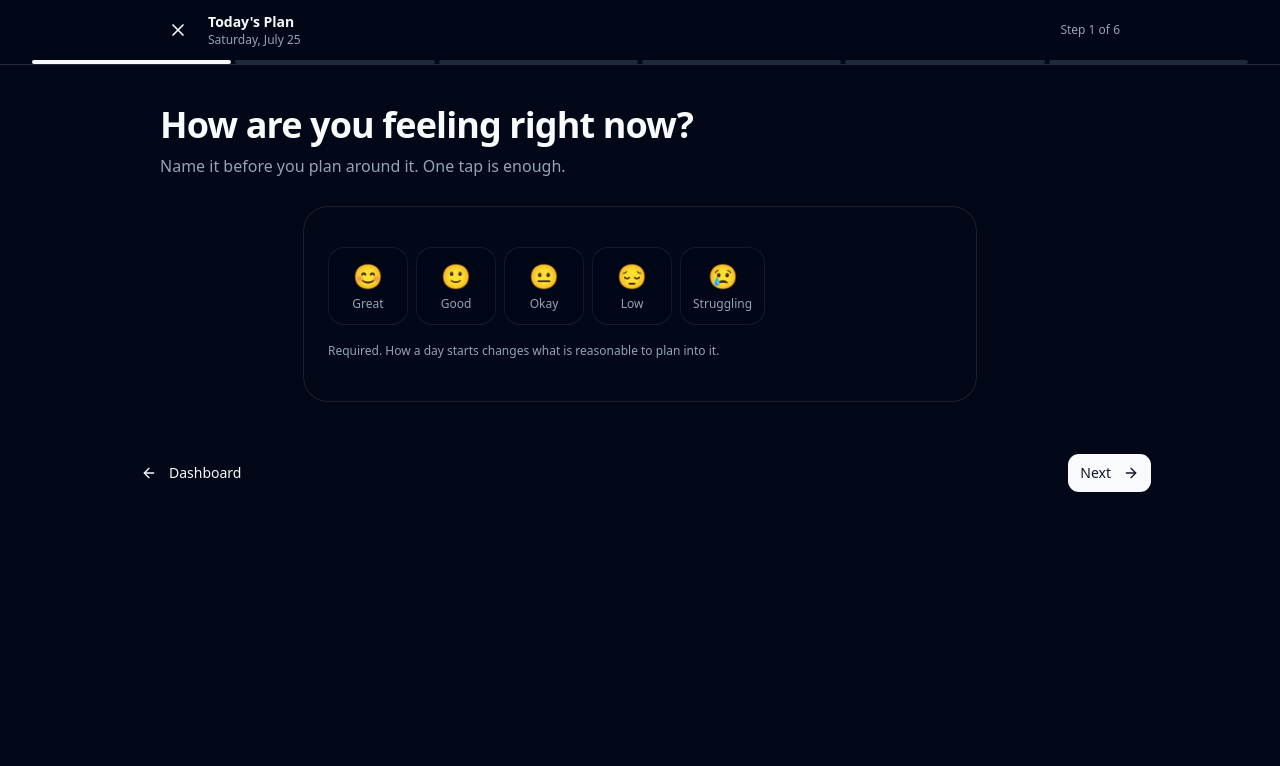
TodayPlanner › blocks progress until a Must Win is selected
The width and height of the screenshot is (1280, 766).
Click the button "🙂 good". click: (456, 286)
box: [416,247,496,325]
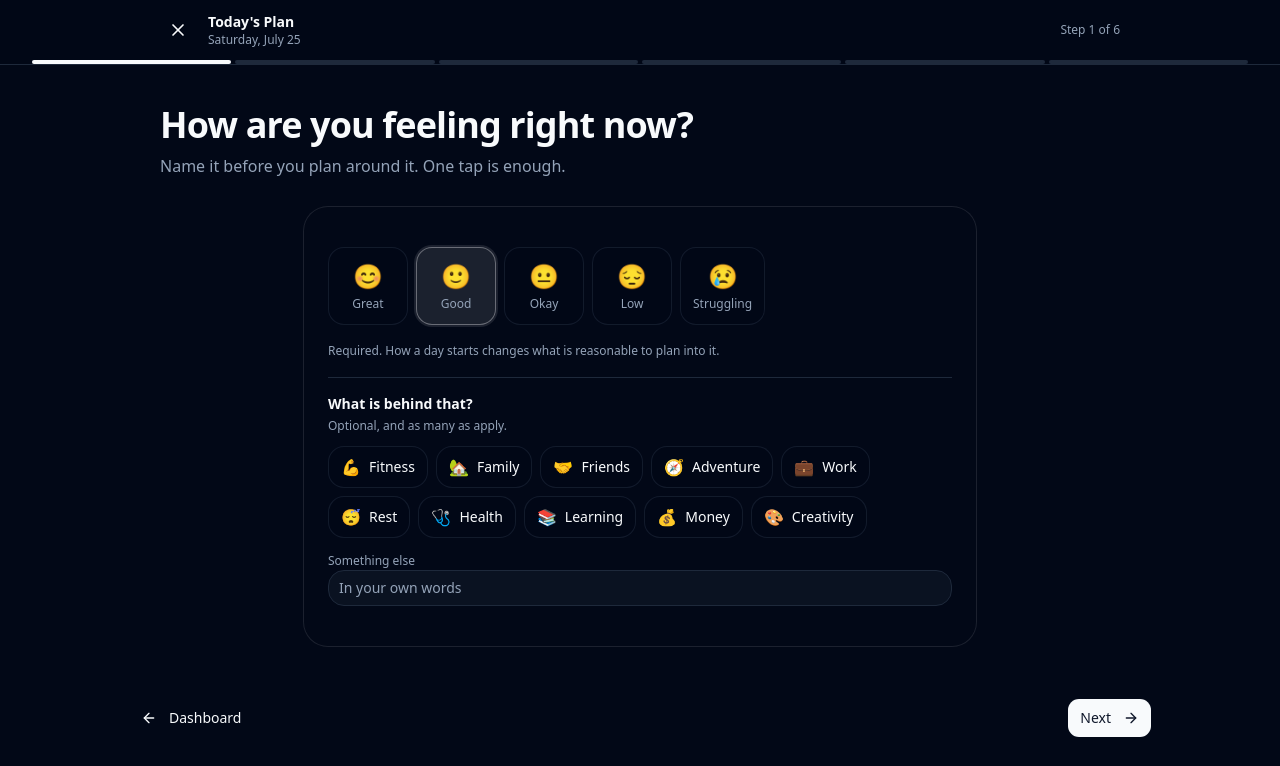
Click the button "Next". click: (1110, 718)
box: [1067,698,1152,738]
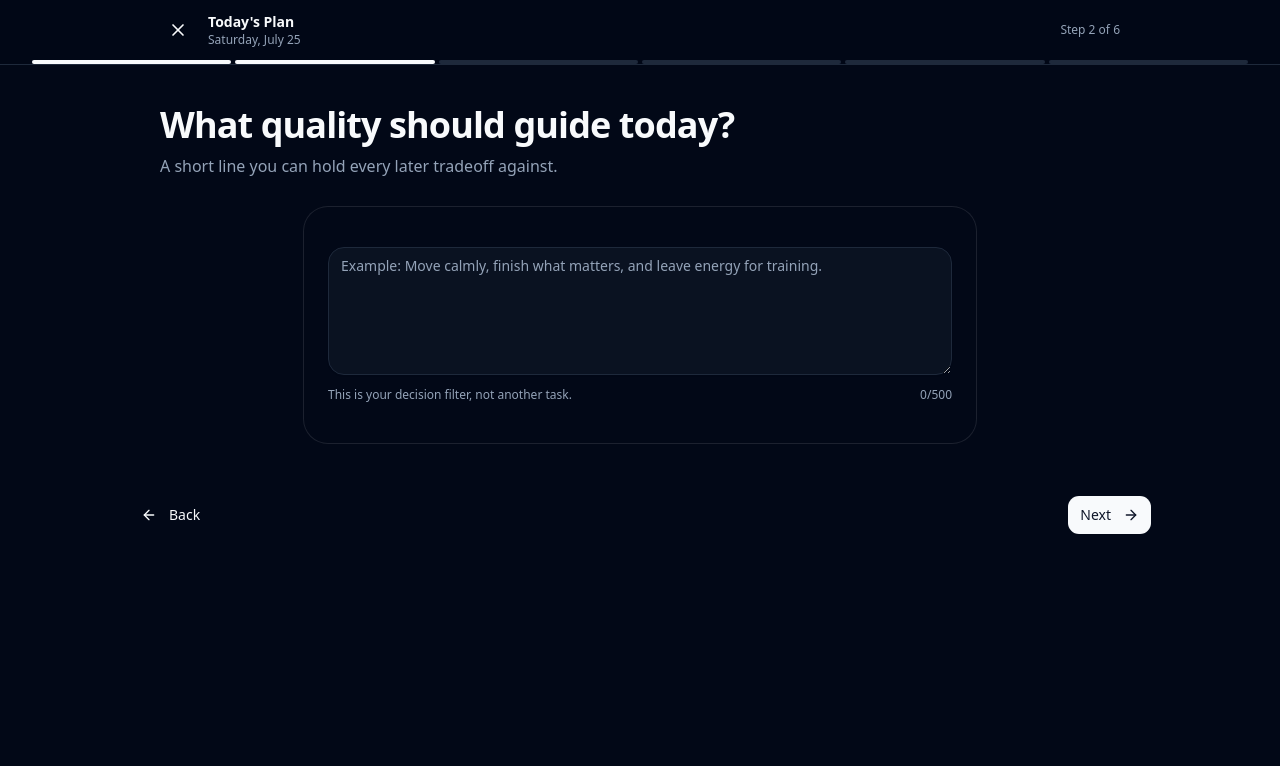
Click the button "Next". click: (1110, 515)
box: [1067,495,1152,535]
(page scrolled)
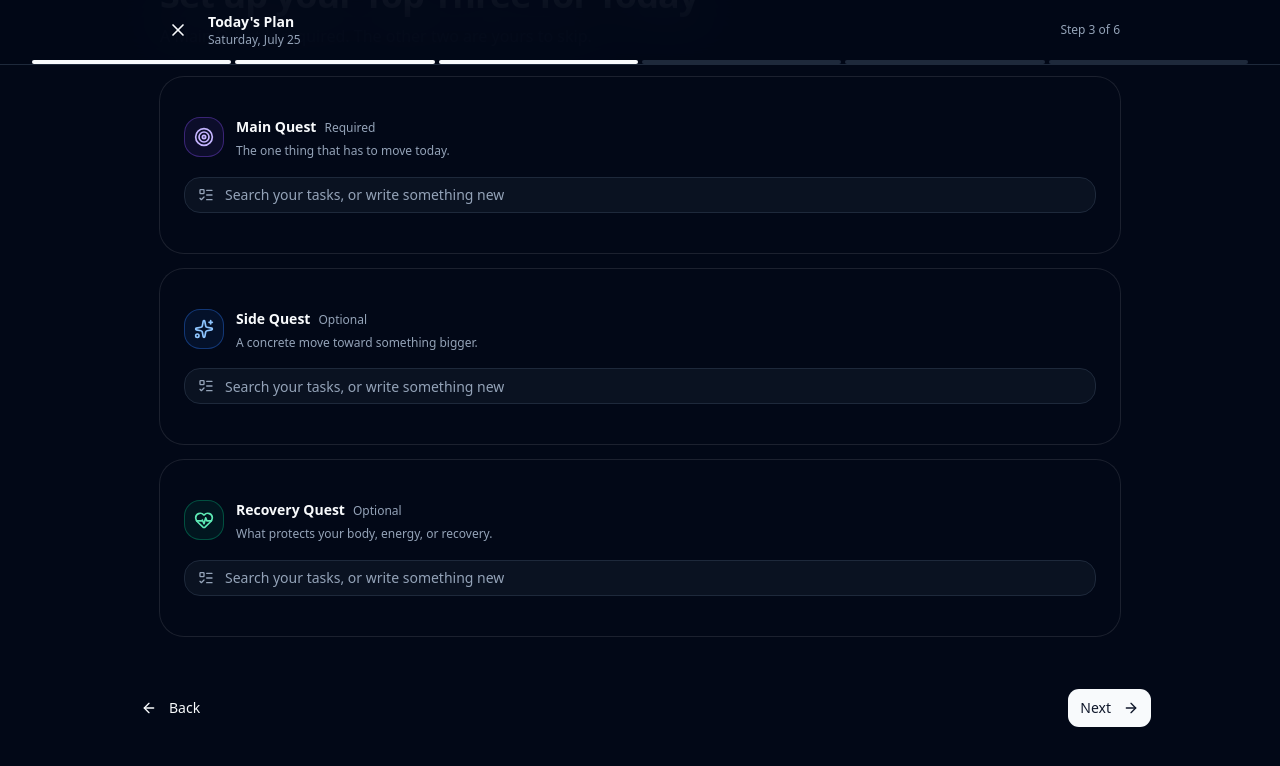
Click the button "Next". click: (1110, 708)
box: [1067,688,1152,728]
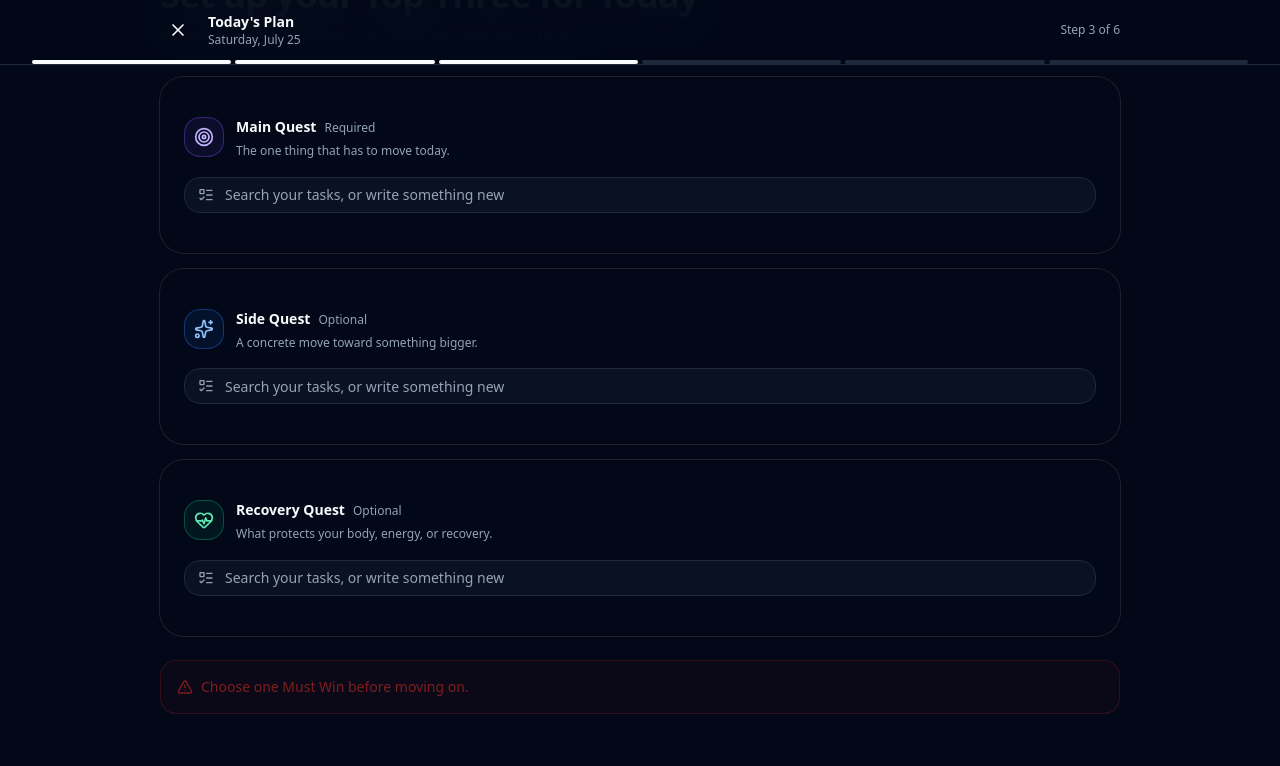
Expected: the message shows "Choose one Must Win", [201,676,469,696]
